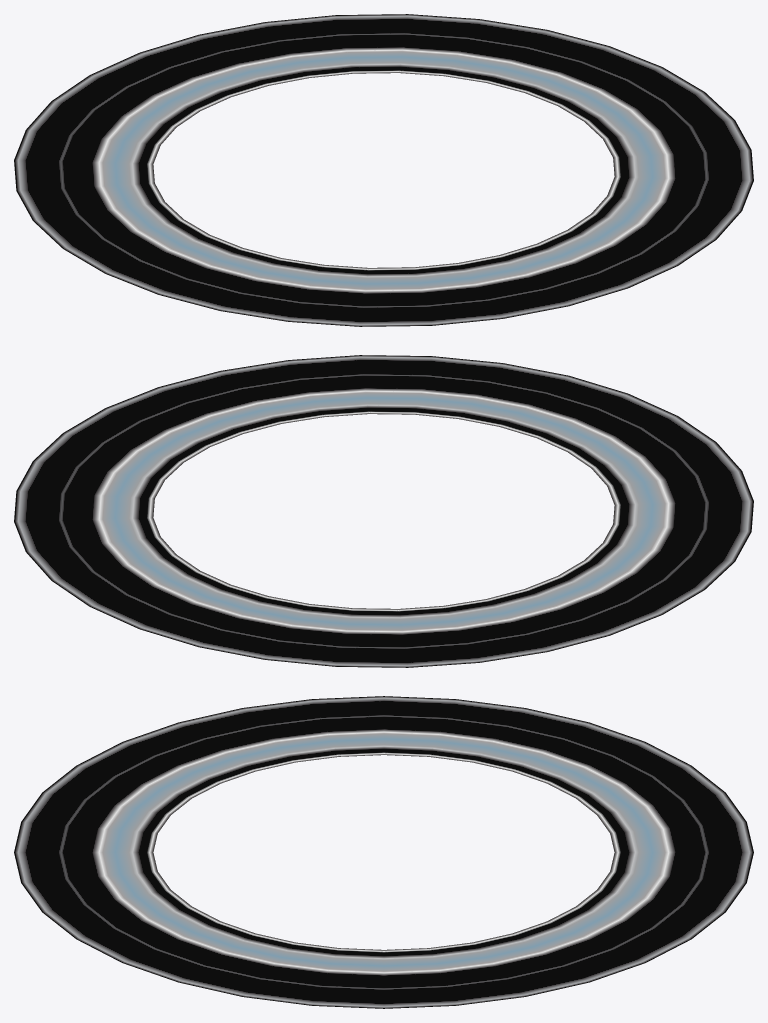
The model's file is NeptuneRing.obj.
3 renders of one model, top to bottom at view 1: azimuth 30°, elevation 25°; view 2: azimuth 150°, elevation 25°; view 3: azimuth 270°, elevation 25°, orthographic.
Parts seen in each view (by area): view 1: Circle_Circle.001; view 2: Circle_Circle.001; view 3: Circle_Circle.001.
Boxes of the visible parts, bbox=[...] form: Circle_Circle.001: bbox=[14, 14, 753, 326]; Circle_Circle.001: bbox=[14, 355, 753, 667]; Circle_Circle.001: bbox=[14, 696, 753, 1008].
Bounding box in the file's own units: 64 × 0 × 64.
Materials: 1 (1 with a texture image).
